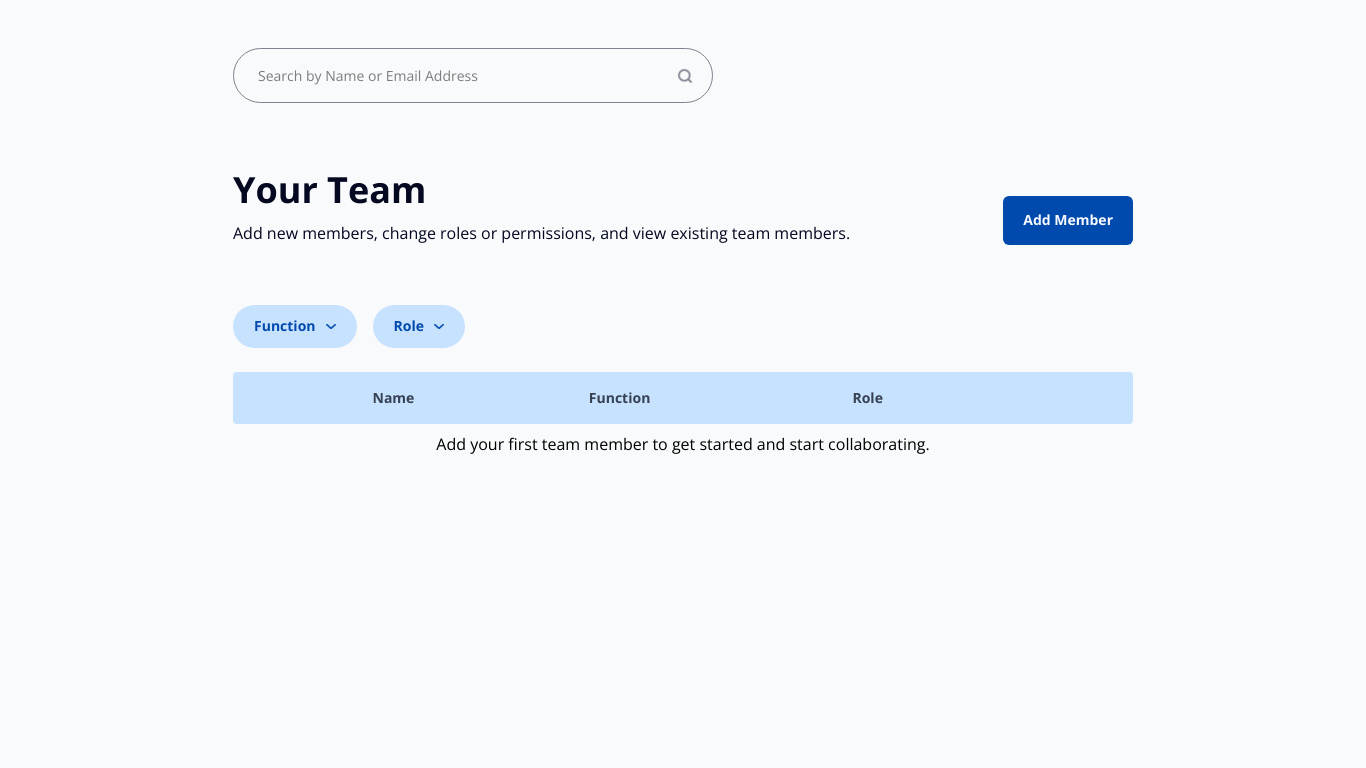
Test: Team Management App › clicking Add Member opens modal
Click the button "Add Member".
click(1068, 221)  # box top-left (1003, 196), bottom-right (1133, 245)
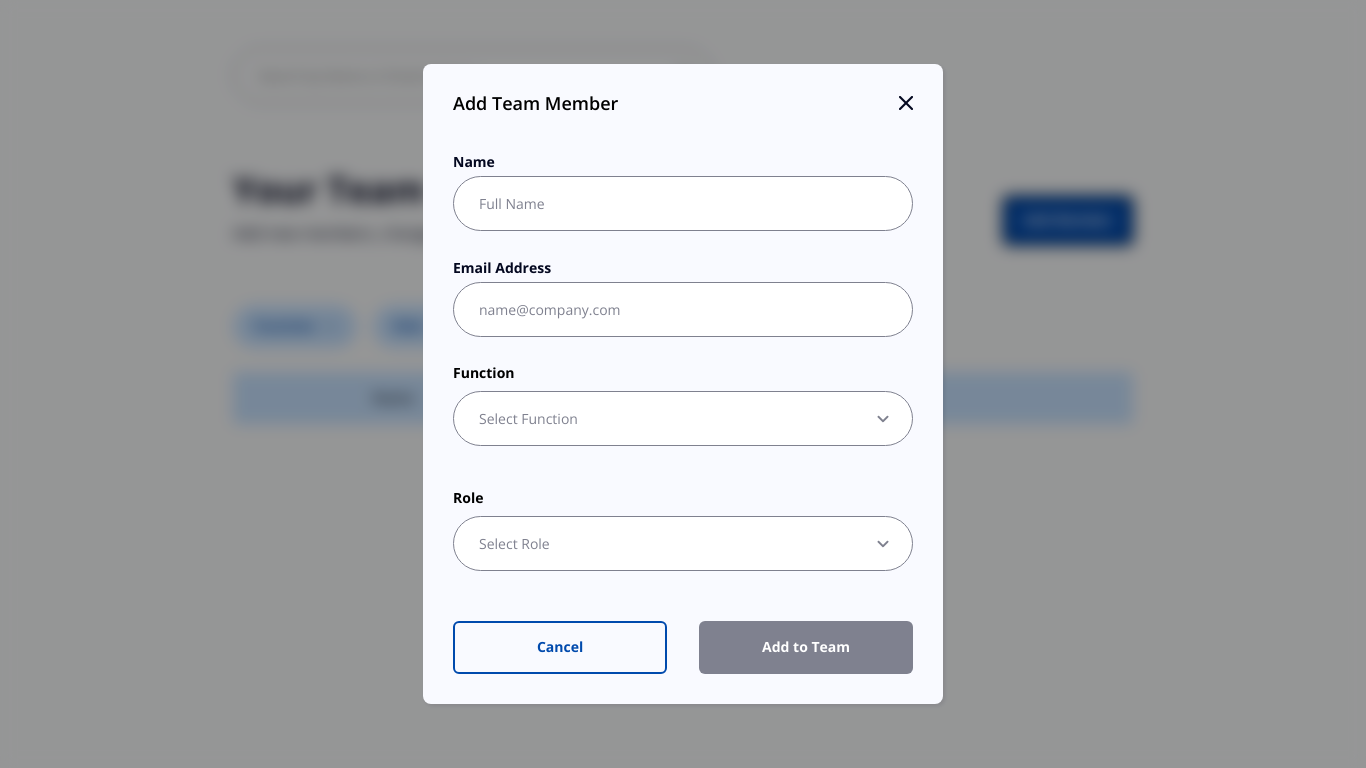
Expected: the heading "Add Team Member" is shown, top-left (453, 89), bottom-right (618, 117)
